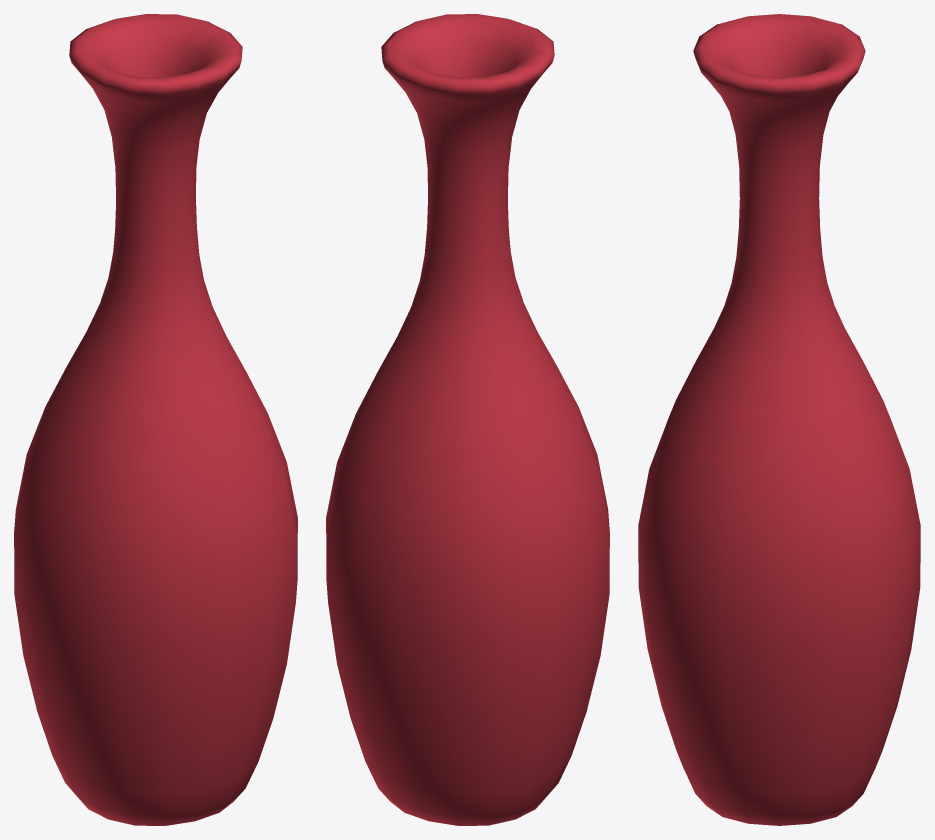
File: Vase1.fbx
The picture shows the model from 3 angles, left to right: view 1: azimuth 30°, elevation 25°; view 2: azimuth 150°, elevation 25°; view 3: azimuth 270°, elevation 25°; orthographic projection.
Parts seen in each view (by area): view 1: Vase1; view 2: Vase1; view 3: Vase1.
Part boxes in pixels (x1,y1,x2,y2): Vase1: (14,14,297,825); Vase1: (326,14,609,825); Vase1: (638,14,920,825).
Size of the model in its own units: 0.2466 by 0.2466 by 0.7246.
